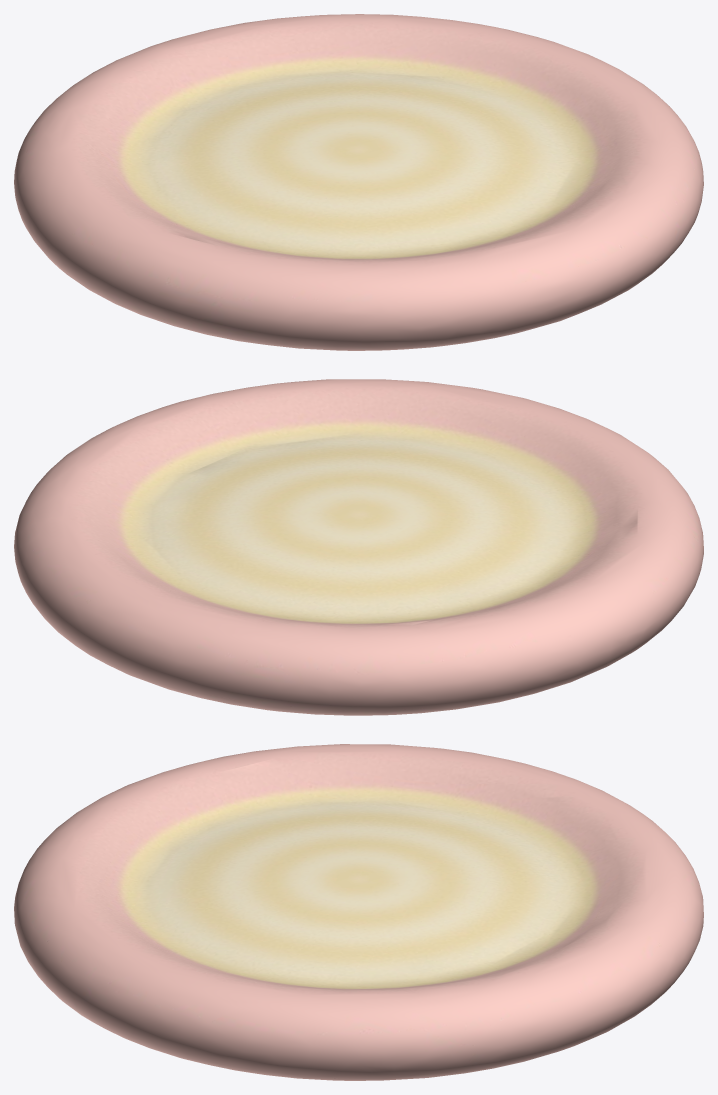
The model's file is cushion.glb.
The picture shows the model from 3 angles, top to bottom: view 1: azimuth 30°, elevation 25°; view 2: azimuth 150°, elevation 25°; view 3: azimuth 270°, elevation 25°; orthographic projection.
Parts seen in each view (by area): view 1: cushion.001; view 2: cushion.001; view 3: cushion.001.
Part boxes in pixels (bbox=[...]): cushion.001: bbox=[14, 14, 703, 350]; cushion.001: bbox=[14, 379, 703, 715]; cushion.001: bbox=[14, 744, 703, 1080].
Bounding box in the file's own units: 0.6741 × 0.0967 × 0.6737.
1 material, 1 textured.
